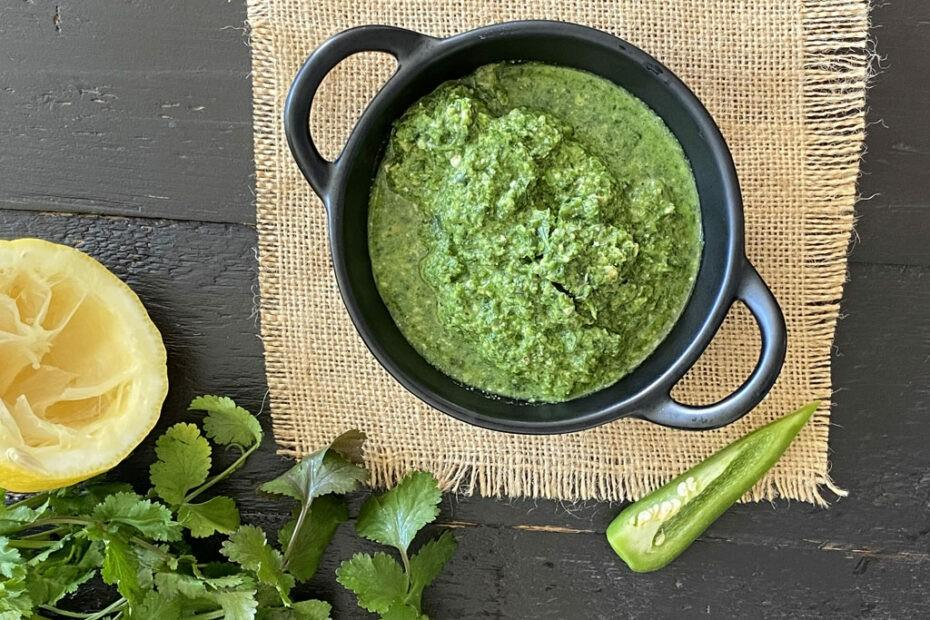GreenChutney: (368, 57, 703, 399)
